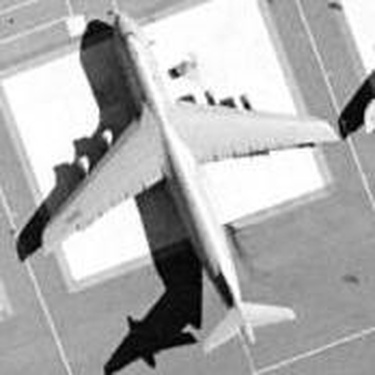airplane: (11, 4, 351, 367)
